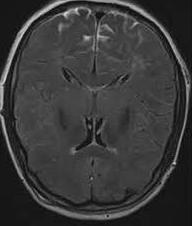Normal_Brain: (1, 1, 192, 226)
